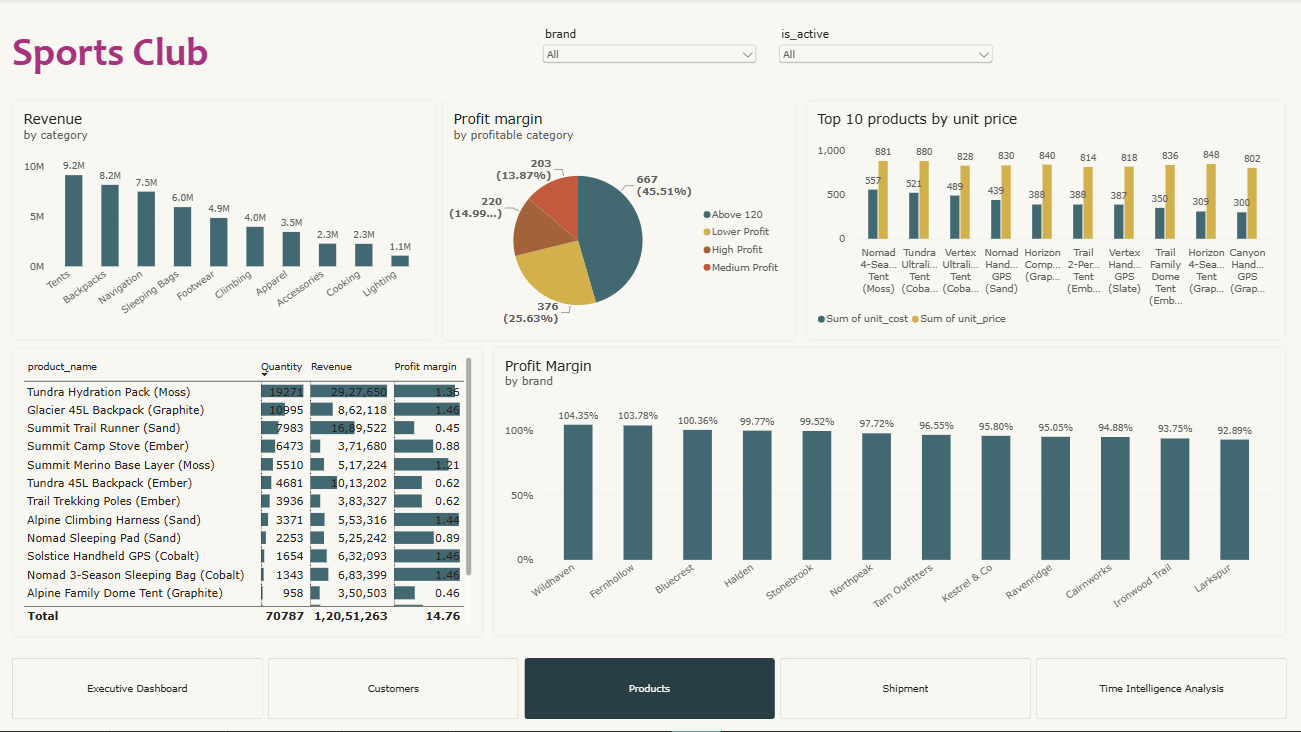

The page's visual inventory and layout, read from the dashboard file:
{"tool":"powerbi","page":{"name":"Products ","canvas":[1920,1080],"ordinal":2},"visuals":[{"type":"textbox","box":[22.1,42.3,318.1,107.9],"z":0},{"type":"clusteredColumnChart","fields":{"Category":["products.category"],"Y":["Key Measures.Line Total"]},"box":[22.1,150.9,623.9,353.4],"z":1000},{"type":"tableEx","fields":{"Values":["products.product_name","Key Measures.Quantity","Key Measures.Line Total","Sum(products.Profit margin)"]},"box":[22.1,513.5,693.9,427],"z":2000},{"type":"slicer","fields":{"Values":["products.brand"]},"box":[798.8,42.3,323.9,69.9],"z":3000},{"type":"slicer","fields":{"Values":["products.is_active"]},"box":[1146.6,42.3,323.9,69.9],"z":4000},{"type":"pieChart","fields":{"Category":["products.profitable category"],"Y":["Sum(products.Profit margin)"]},"box":[655.2,150.9,520.9,353.4],"z":5000},{"type":"columnChart","fields":{"Category":["products.brand"],"Y":["Key Measures.Average Profit Margin"]},"box":[730.7,513.5,1166.9,427],"z":6000},{"type":"clusteredColumnChart","title":"Top 10 products by unit price ","fields":{"Category":["products.product_name"],"Y":["Sum(products.unit_cost)","Sum(products.unit_price)"]},"box":[1190.8,150.9,706.8,353.4],"z":7000},{"type":"pageNavigator","box":[22.1,971.8,1877.3,90.2],"z":7001}]}

Visuals, with their boxes in screenshot pixels (x1, y1, x2, y2), scaled from the page's 1920x1080 canvas onto the 1301x732 screenshot:
textbox: region(15, 29, 231, 102)
clusteredColumnChart - products.category x Key Measures.Line Total: region(15, 102, 438, 342)
tableEx - products.product_name x Key Measures.Quantity: region(15, 348, 485, 637)
slicer - products.brand: region(541, 29, 761, 76)
slicer - products.is_active: region(777, 29, 996, 76)
pieChart - products.profitable category x Sum(products.Profit margin): region(444, 102, 797, 342)
columnChart - products.brand x Key Measures.Average Profit Margin: region(495, 348, 1286, 637)
"Top 10 products by unit price " clusteredColumnChart: region(807, 102, 1286, 342)
pageNavigator: region(15, 659, 1287, 720)
